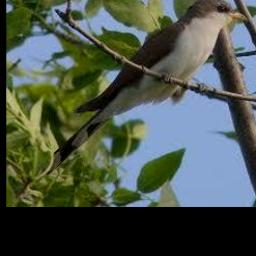Cuckoo: (40, 0, 249, 177)
